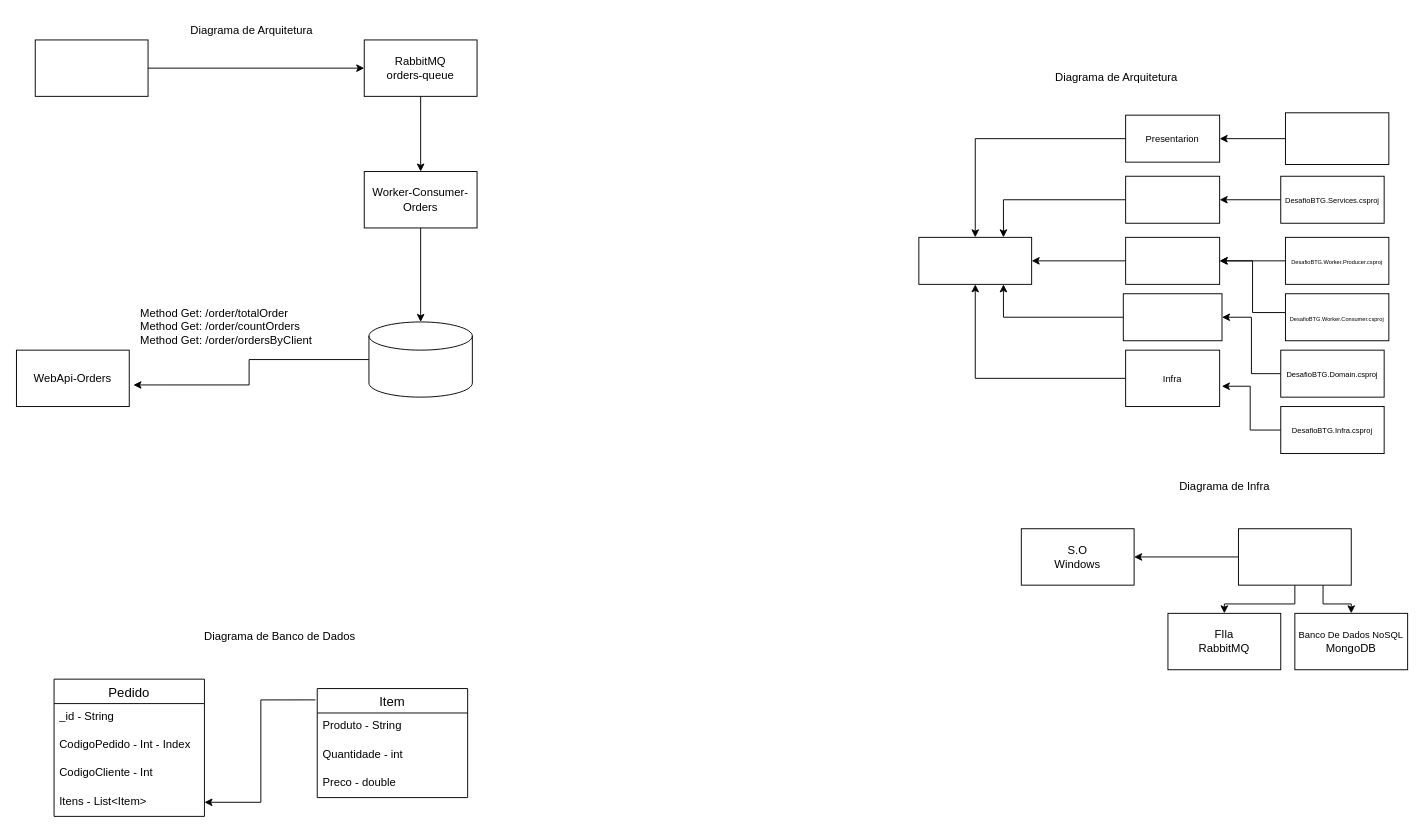
This 1424x835 diagram has some shape labels left out. The centre of each missing label's shape, as x and y in pixels:
"Application" goes at point 1172,260.
"Container Docker" goes at point 1294,556.
"DesafioBTG.WebApi.csproj" goes at point 1337,138.
"Domain" goes at point 1172,317.
"MongoDB OrderCollection" goes at point 420,359.
"Services" goes at point 1172,199.
"Sln" goes at point 975,260.
"Worker-Producer-Orders" goes at point 91,67.
